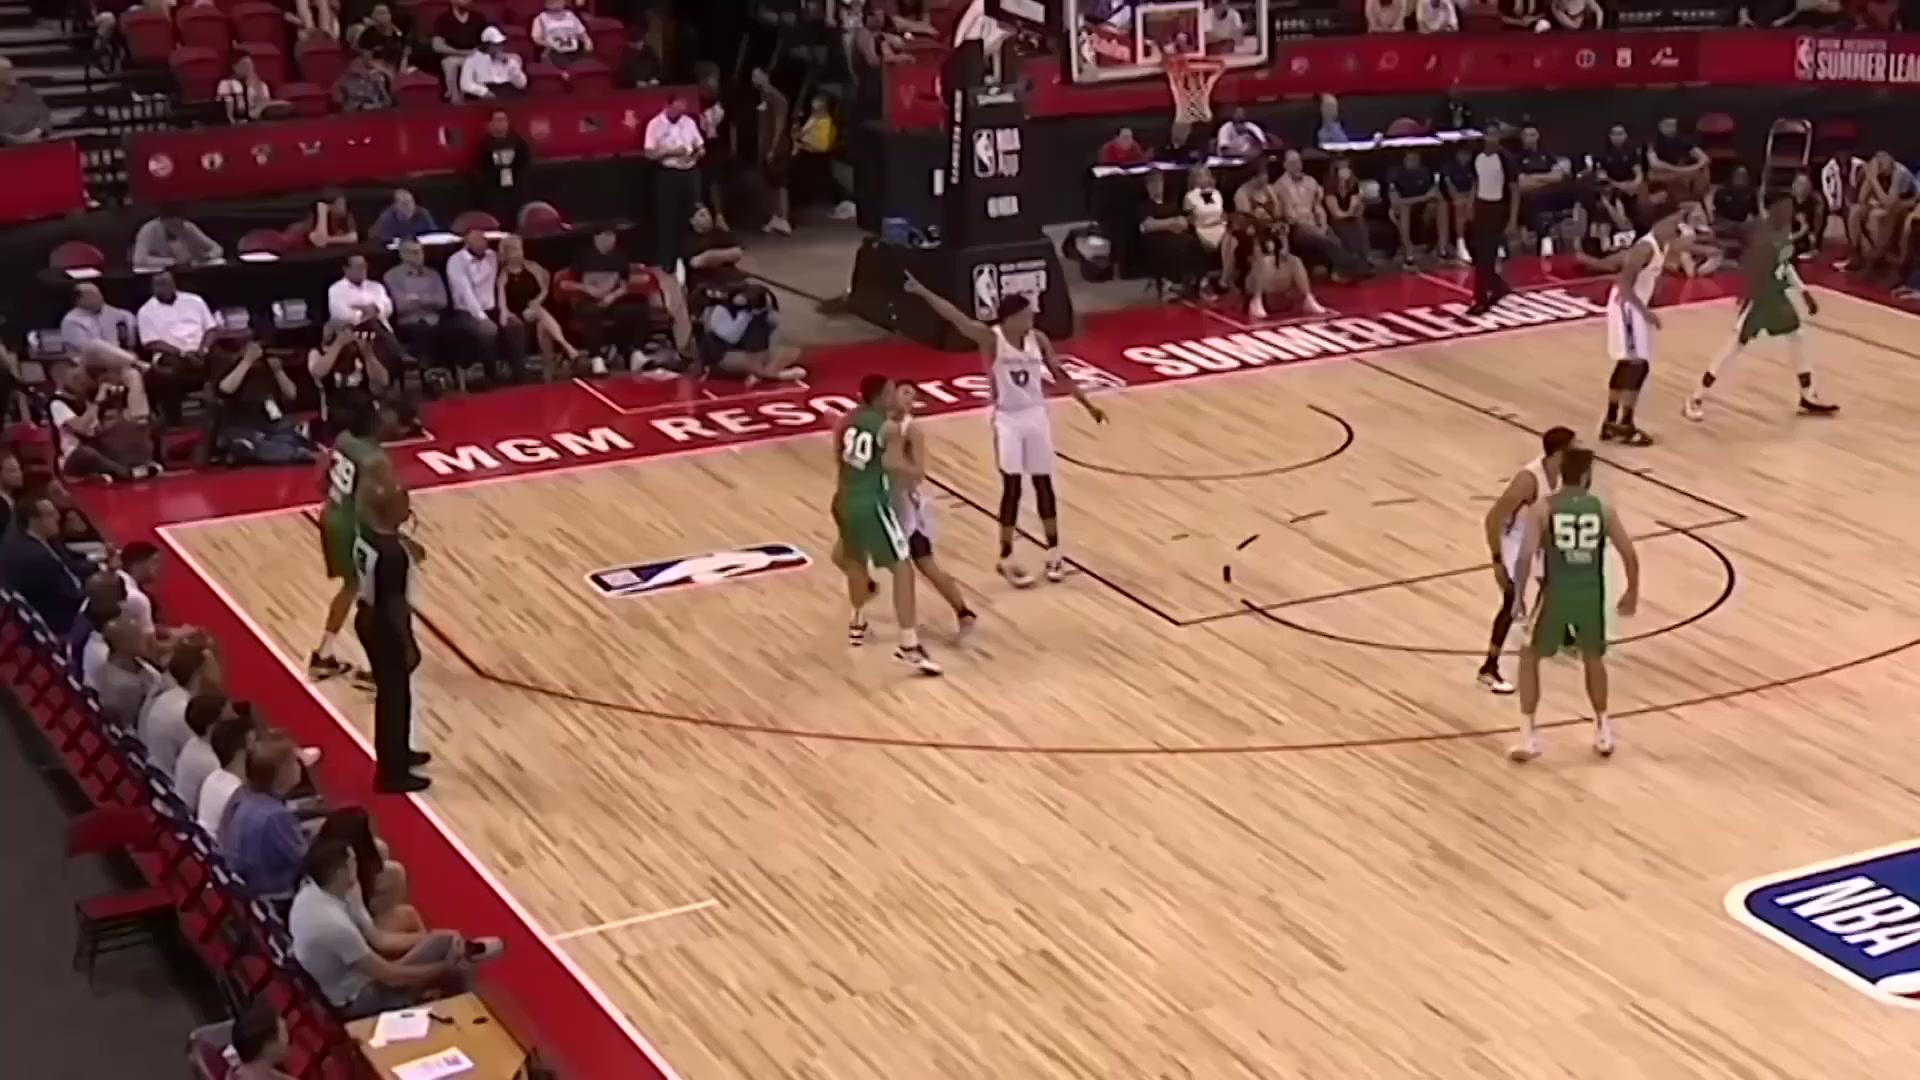foul: (796, 326, 997, 673)
